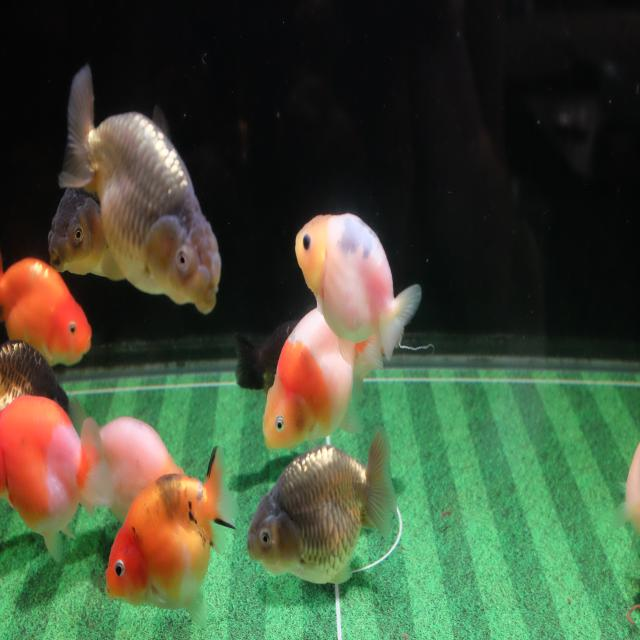Goldfish: (56, 62, 225, 320), (103, 444, 240, 630), (246, 424, 398, 587), (294, 210, 422, 365), (0, 392, 115, 564), (261, 307, 385, 453), (0, 254, 94, 370), (92, 417, 186, 529)
